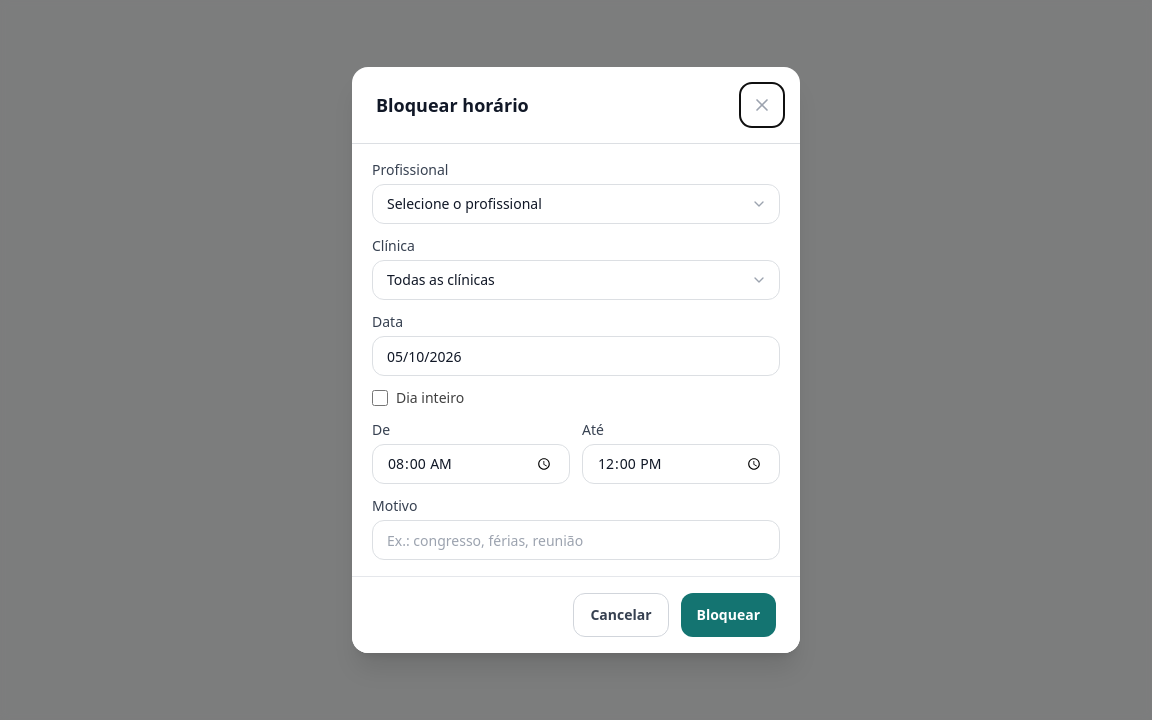
Test: ScheduleBlockModal (MIG-05) › bloqueio de toda a clínica só com Administração › sem Administração, 'Toda a clínica' não aparece e é preciso escolher o profissional
Step 1. Click the button "Bloquear" → (728, 615), box [680, 593, 776, 637]
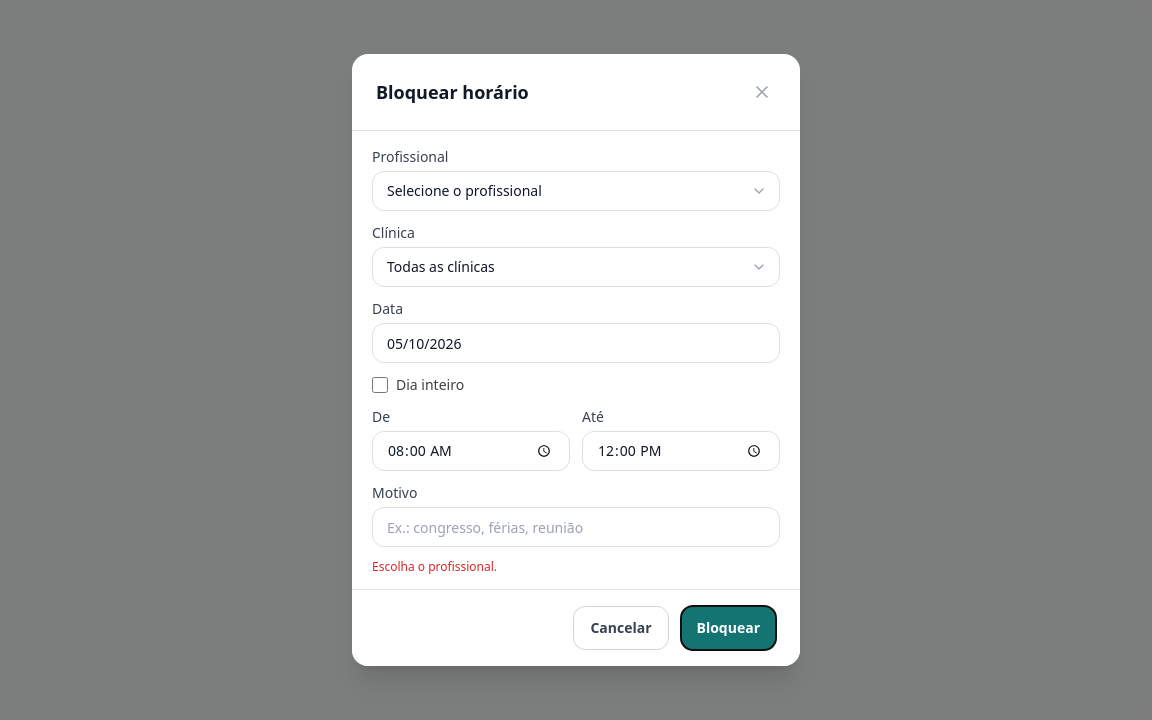
Result: the message reads "Escolha o profissional." at [372, 558, 497, 575]
